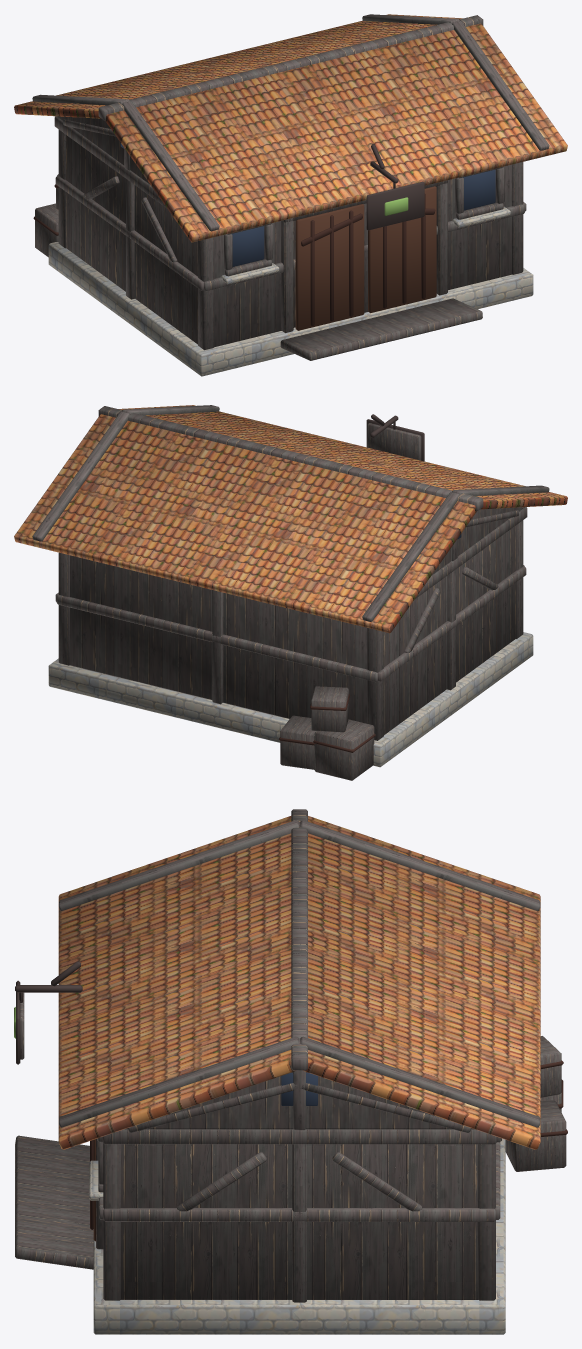
Rendered from storage.gltf.
3 renders of one model, top to bottom at view 1: azimuth 30°, elevation 25°; view 2: azimuth 150°, elevation 25°; view 3: azimuth 270°, elevation 25°, orthographic. The views are drawn at different scales.
Visible parts, largest first — view 1: storage; view 2: storage; view 3: storage.
Boxes of the visible parts, box(x1,y1,x2,y2) form: storage: box(14, 14, 567, 376); storage: box(14, 405, 567, 780); storage: box(14, 809, 567, 1334).
Size of the model in its own units: 7.88 by 4.36 by 7.4.
4 materials, 4 textured.
